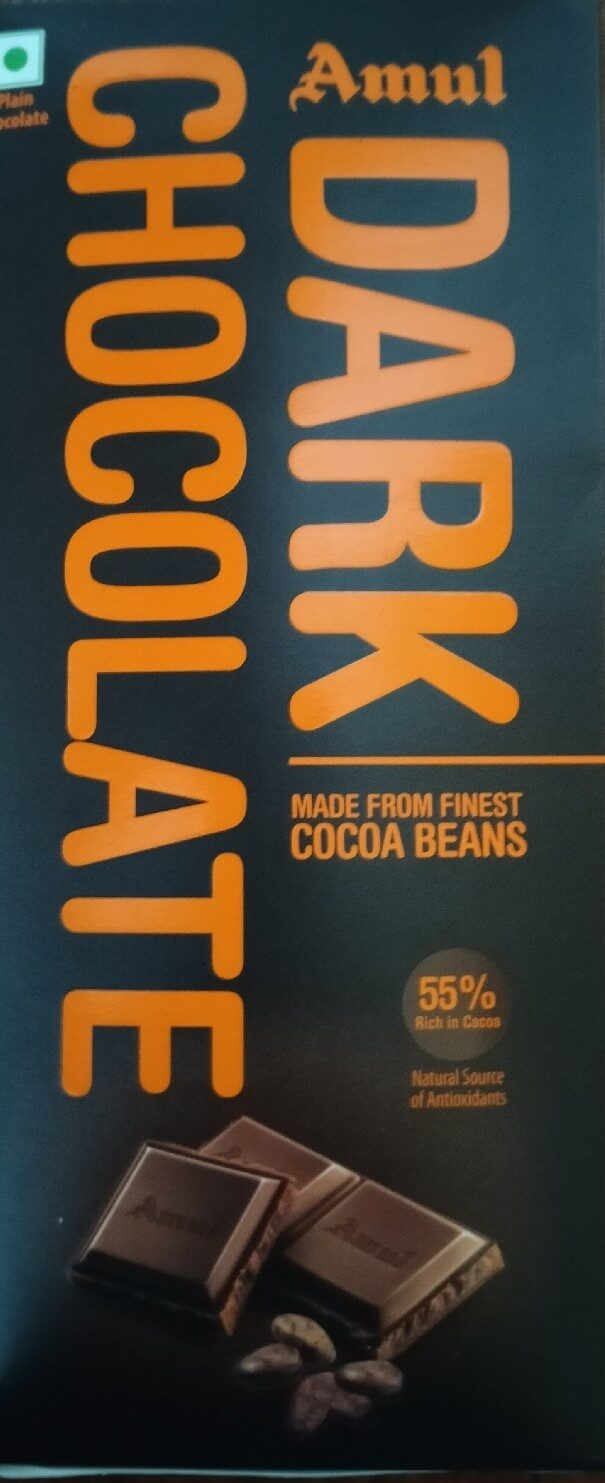Dark Chocolate: (54, 133, 551, 1350)
